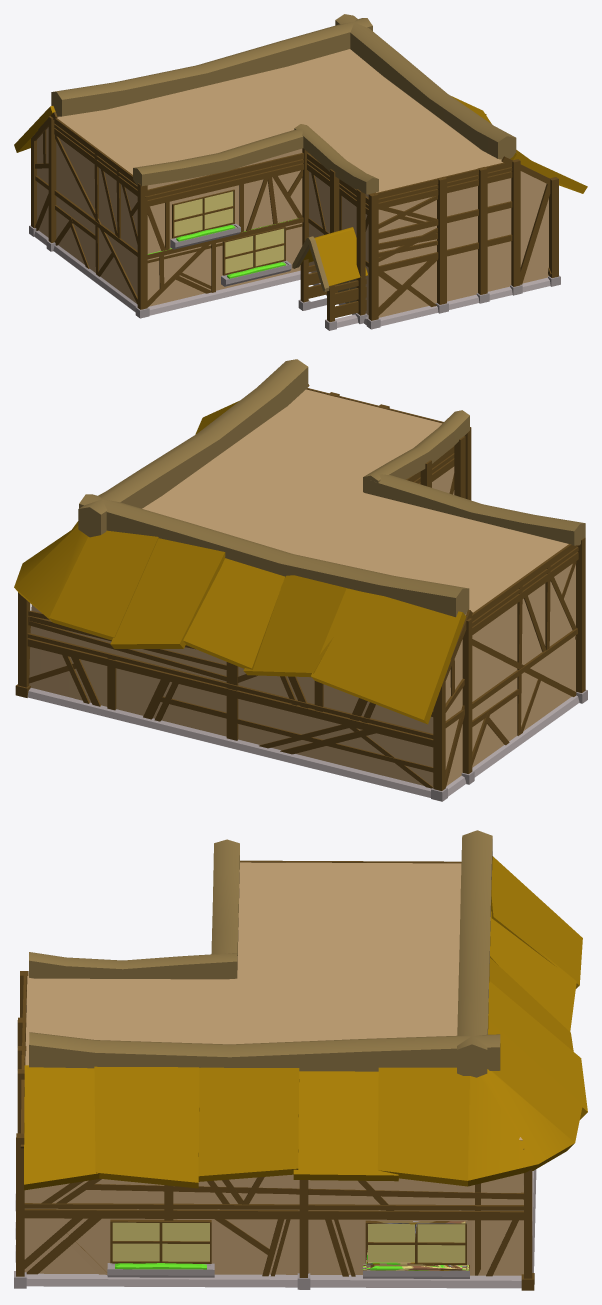
Rendered from mesh_flat_roof_turn_Without.fbx.
3 renders of one model, top to bottom at view 1: azimuth 30°, elevation 25°; view 2: azimuth 150°, elevation 25°; view 3: azimuth 270°, elevation 25°, orthographic. The views are drawn at different scales.
Parts seen in each view (by area): view 1: flat_roof_turn_Without; view 2: flat_roof_turn_Without; view 3: flat_roof_turn_Without.
Part boxes in pixels (x1,y1,x2,y2): flat_roof_turn_Without: (14, 14, 587, 330); flat_roof_turn_Without: (14, 359, 587, 801); flat_roof_turn_Without: (14, 830, 587, 1290).
Bounding box in the file's own units: 1773 × 696 × 1629.
Materials: 1 (1 with a texture image).
